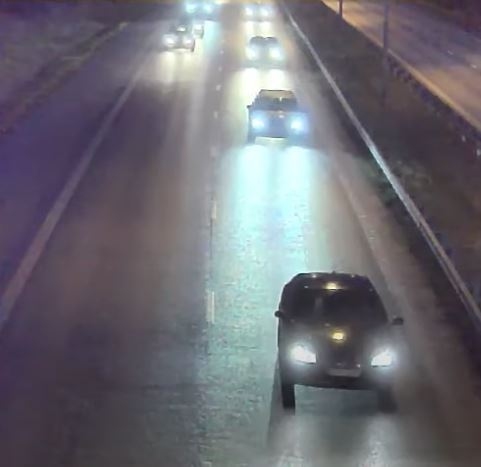Car: (275, 269, 403, 412), (247, 87, 307, 144), (243, 36, 285, 67), (163, 25, 196, 53)
